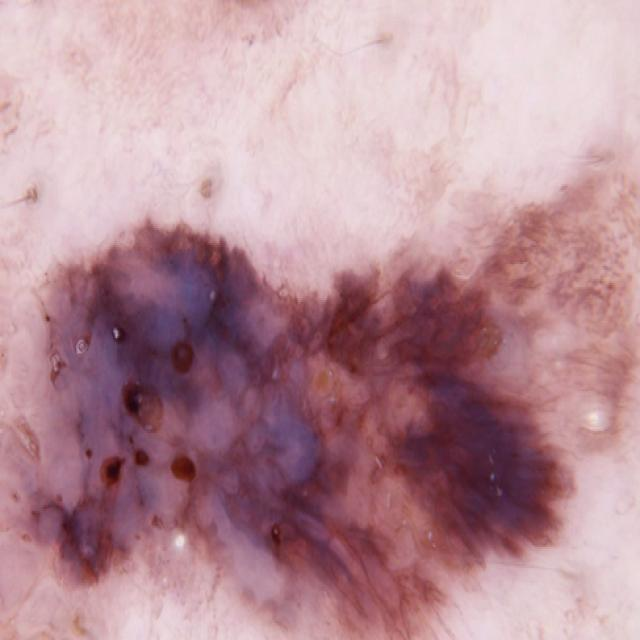Keratosis: (36, 154, 622, 640)
